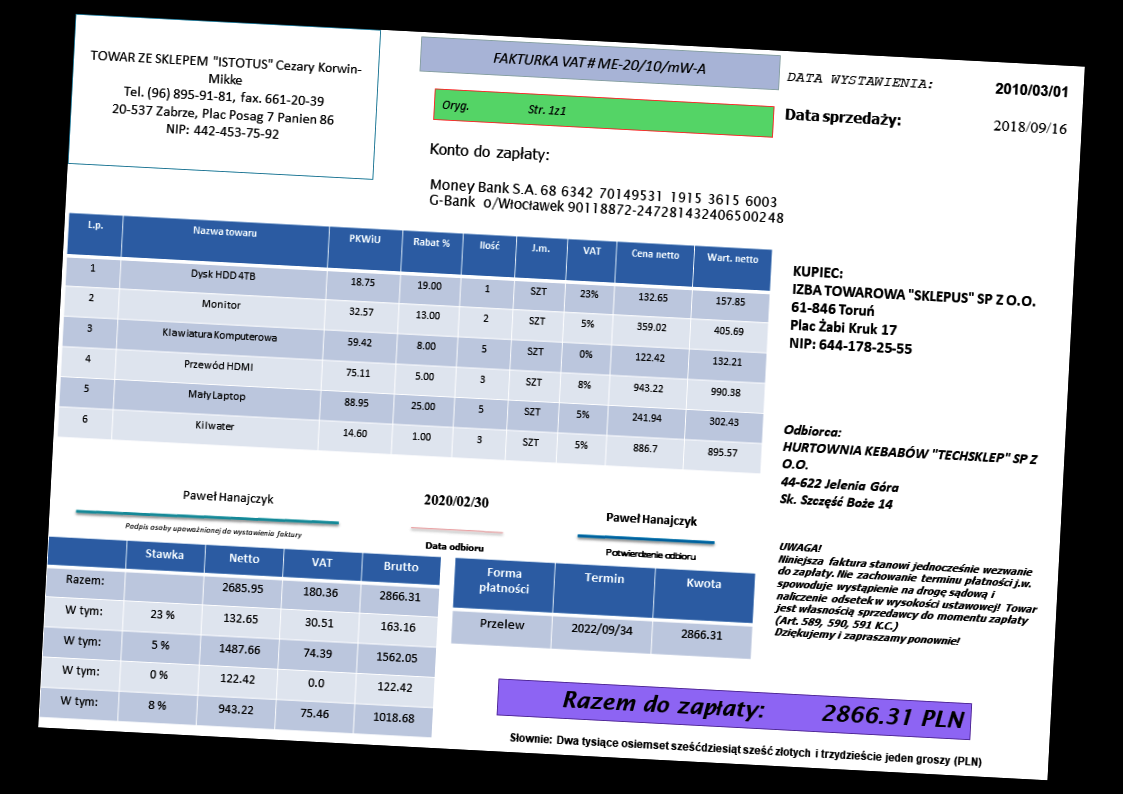Table: (55, 210, 774, 475), (40, 535, 443, 739), (450, 556, 756, 660)
TextBox: (773, 538, 1045, 654), (85, 48, 363, 146), (777, 419, 1040, 521), (786, 260, 1039, 364), (559, 684, 968, 736), (507, 729, 985, 772), (426, 176, 788, 226), (491, 49, 710, 78), (121, 519, 303, 542), (786, 67, 936, 94), (427, 139, 551, 166), (783, 105, 904, 131), (440, 98, 568, 120), (603, 508, 699, 532), (180, 484, 276, 507), (602, 545, 699, 564), (991, 117, 1071, 139), (991, 79, 1069, 101), (422, 491, 490, 512), (422, 538, 486, 554)
